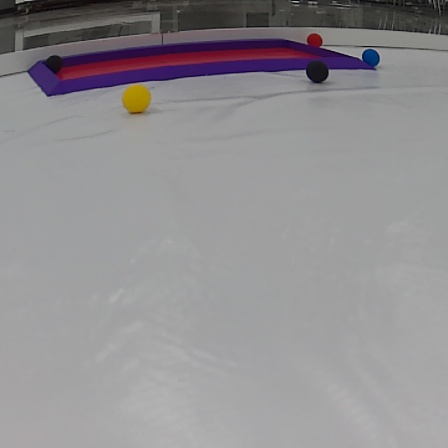black: (306, 57, 333, 85), (45, 55, 65, 71)
blue: (360, 46, 381, 66)
red: (307, 30, 324, 46)
red_aim: (26, 37, 373, 90)
yellow: (120, 82, 151, 113)
